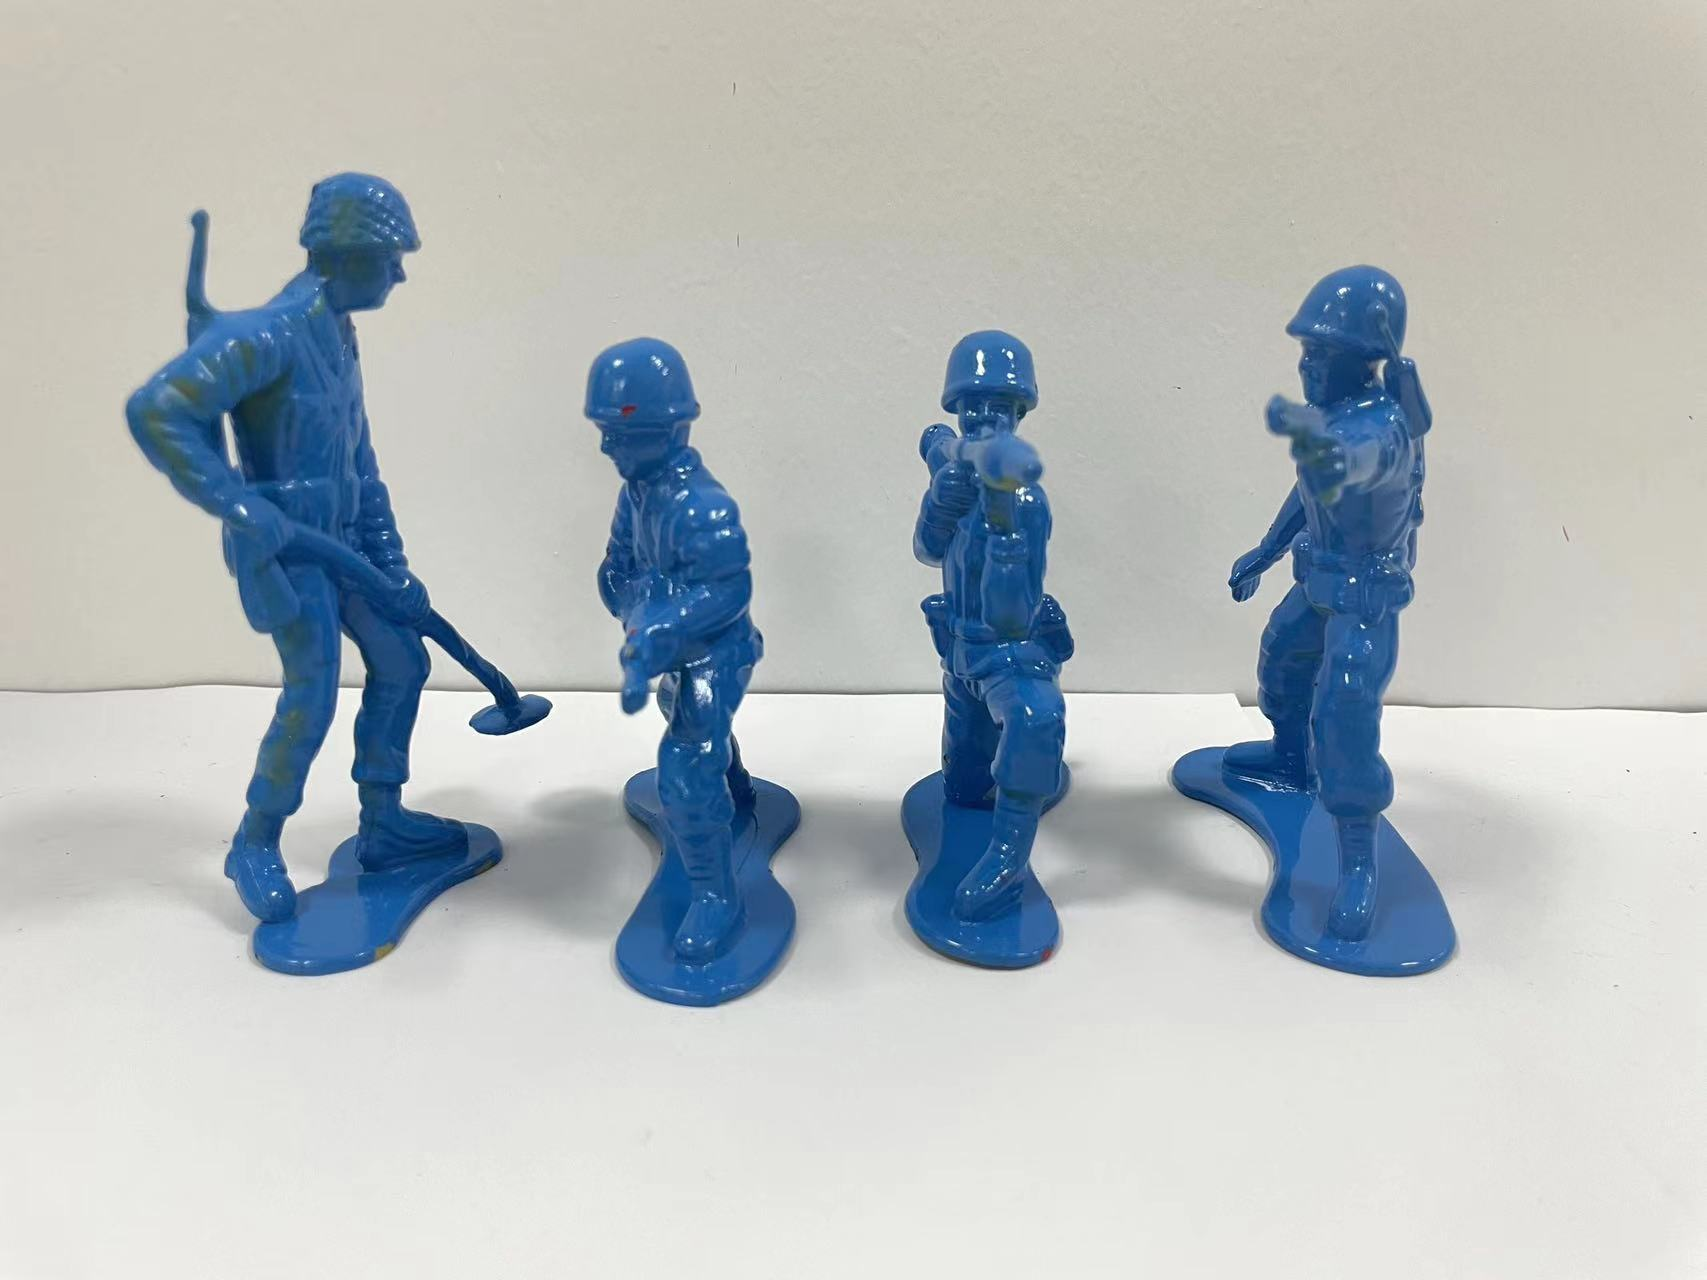blue: (65, 121, 526, 1055), (1157, 188, 1469, 1042), (559, 289, 859, 1016), (876, 311, 1122, 1033)
